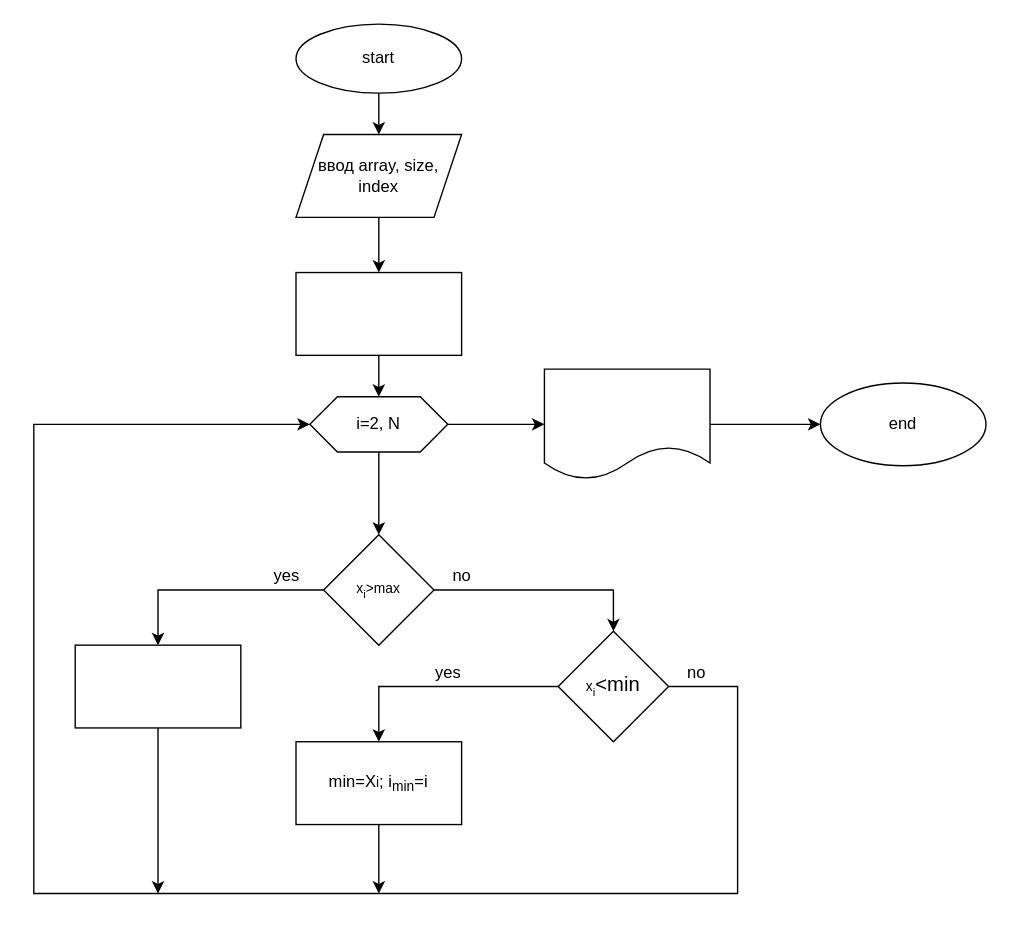
Some shapes in this 1010 by 929 pixel diagram are drawn without their labels. The shapes that lost their labels are listed below. From the top down, each one's box as (x1, y1, x2, y2) in pixels, then its label:
(295, 271, 462, 355): max=X 1 ; i max =1 min=X 1 ; i min =1
(543, 368, 710, 480): max, i max min, i min
(74, 644, 241, 728): max=X i ; i max =i
